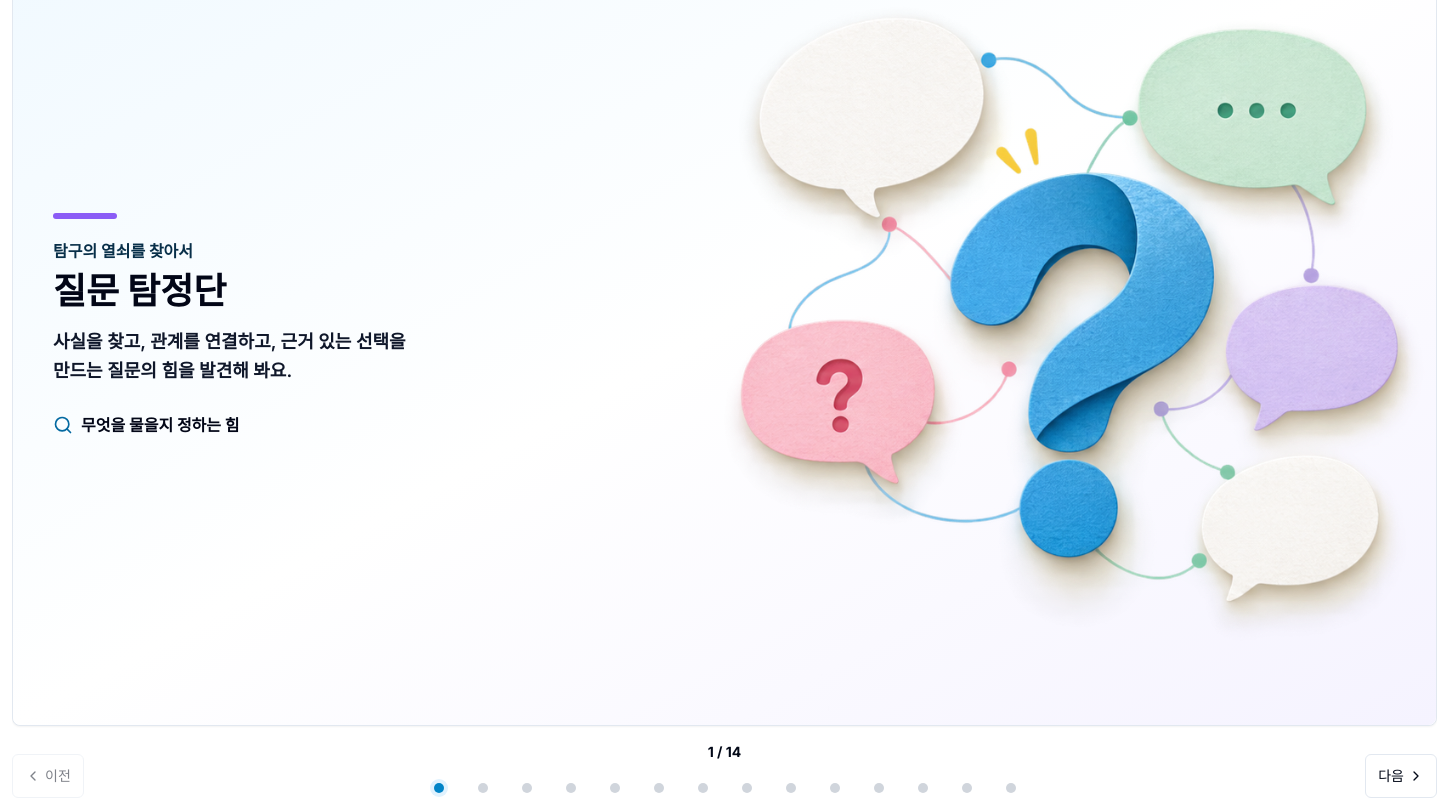
Scenario: 질문학습 슬라이드 › 작은 화면 비교 자료에도 세 유형의 탐구 목적을 모두 표시한다
(page scrolled)
Click the tab named "12 / 14". click: (922, 788)
box: [900, 766, 944, 809]
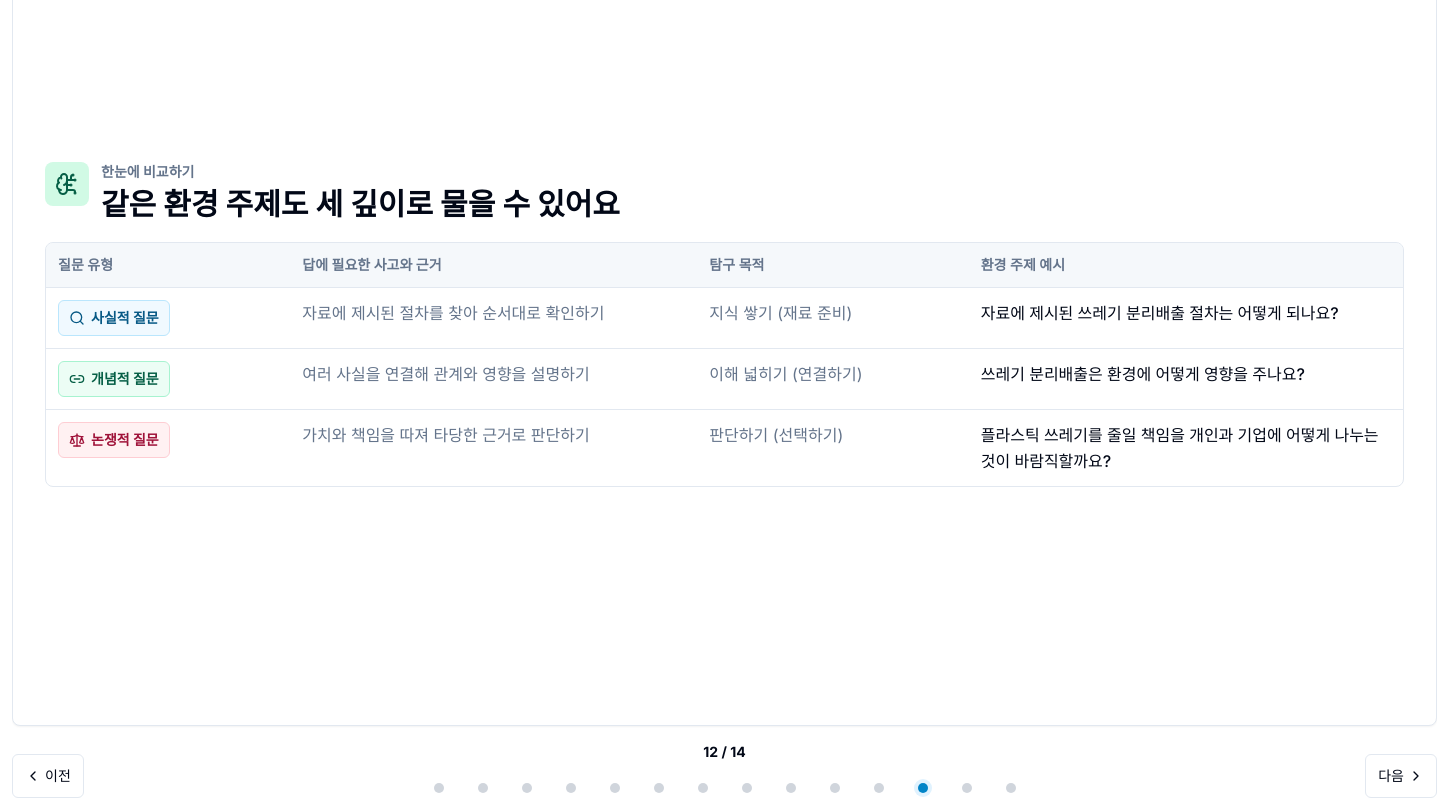
Check: the number of column headings "답에 필요한 사고와 근거" is 4
Check: the text "지식 쌓기 (재료 준비)" is shown 2 times
Check: the text "이해 넓히기 (연결하기)" is shown 2 times
